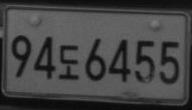4: (31, 35, 56, 80), (107, 39, 131, 83)
5: (159, 40, 181, 85), (134, 40, 156, 83)
6: (84, 37, 107, 82)
9: (10, 33, 32, 76)
도: (58, 44, 79, 80)
